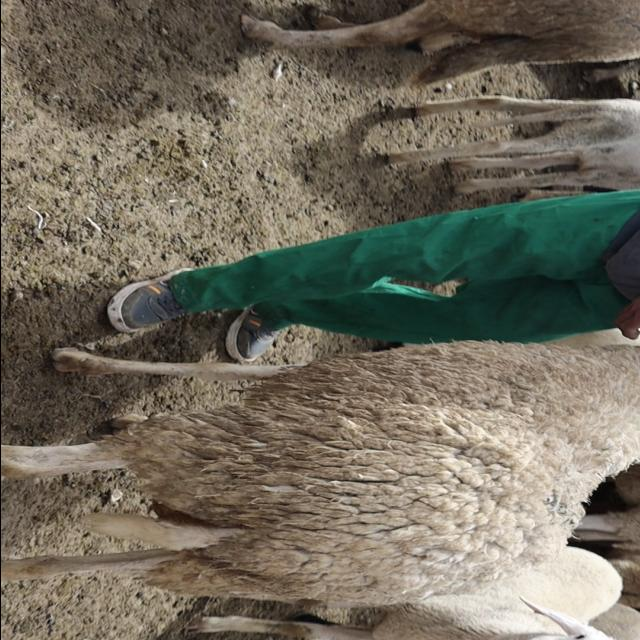Score_2: (1, 341, 640, 605)
